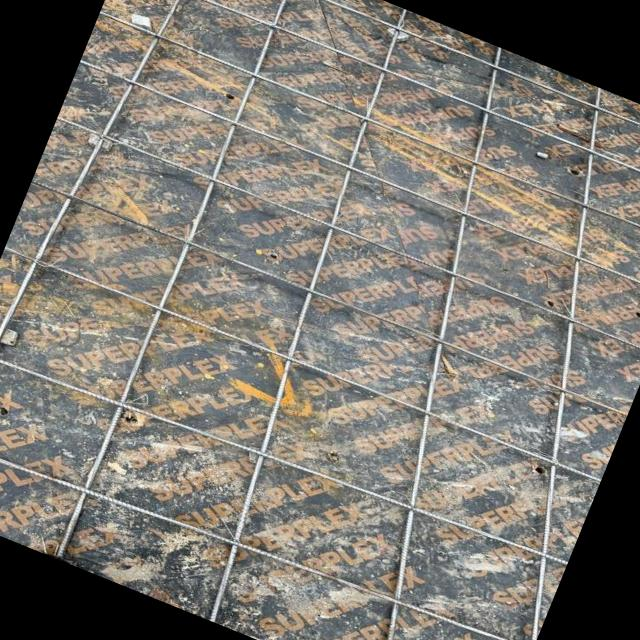ribbed bar: (253, 44, 625, 640), (157, 6, 455, 622), (0, 321, 567, 591), (2, 238, 600, 490), (30, 172, 627, 422), (55, 110, 640, 360), (50, 0, 302, 560), (387, 84, 640, 640), (79, 53, 640, 302), (98, 4, 640, 254), (0, 407, 532, 640), (0, 0, 217, 526), (117, 0, 640, 207), (133, 0, 640, 167)
